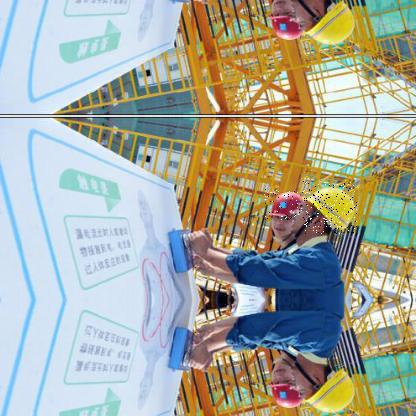safetyhelmet: (303, 181, 358, 235), (264, 188, 307, 222)
